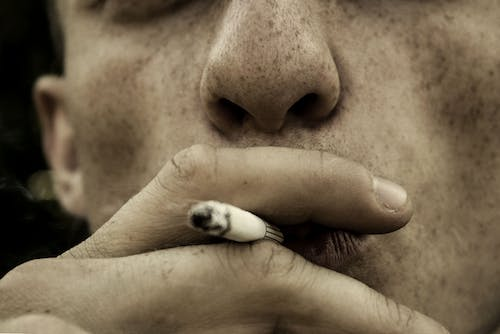cigarette: (181, 193, 284, 246)
